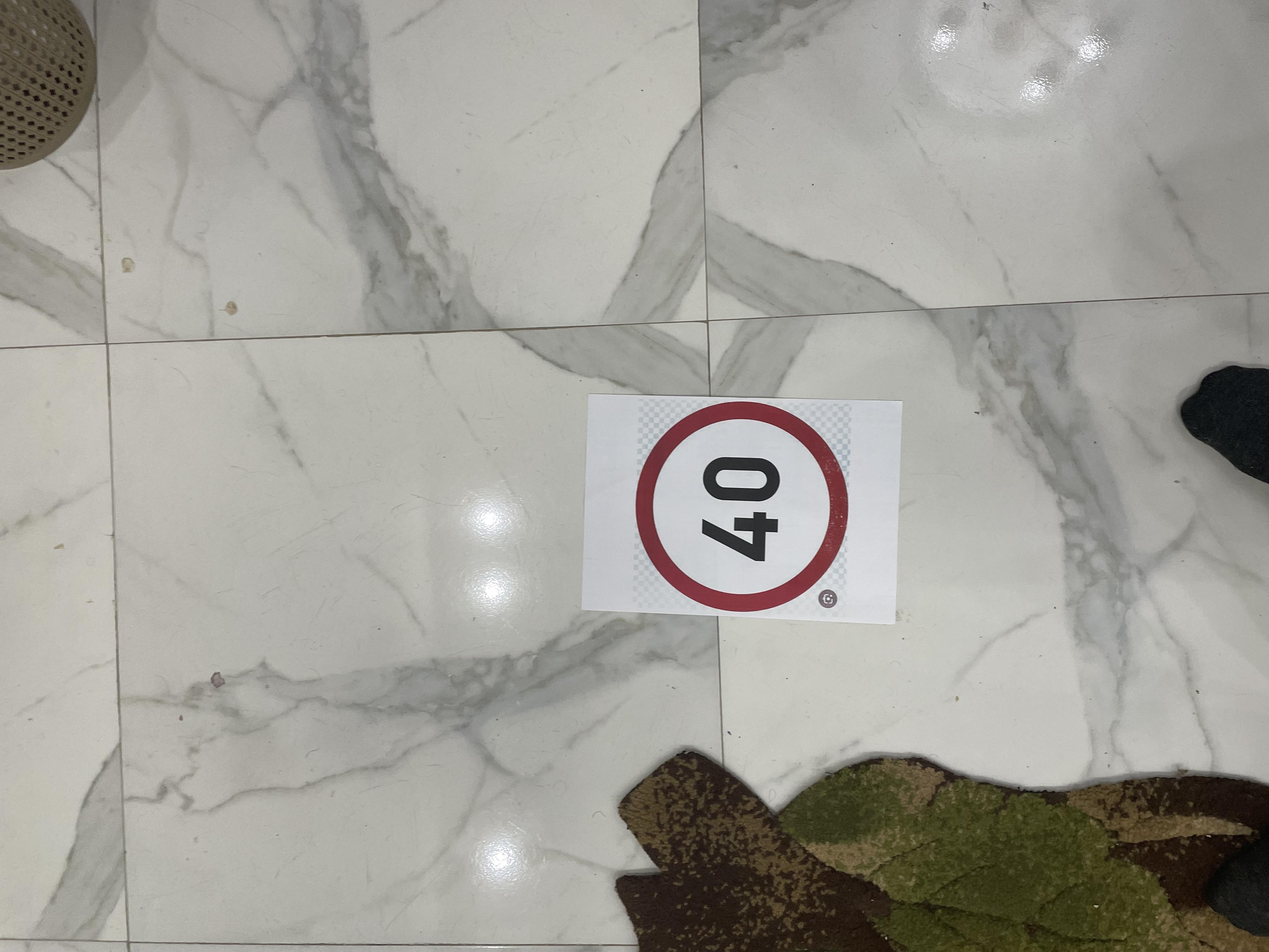40-Speed: (446, 466, 757, 640)
